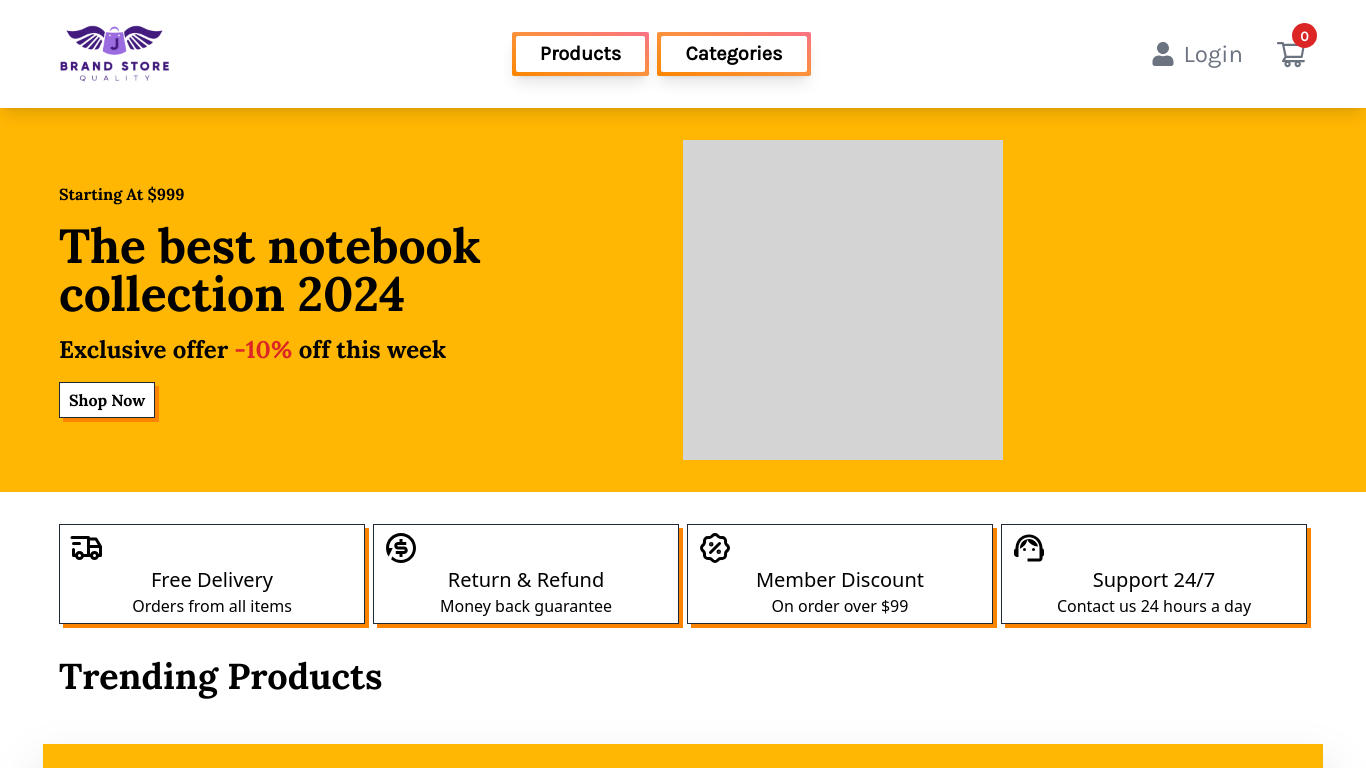
Test: testing navbar functions › login & logout works properly
The image size is (1366, 768).
Step 1. Click the text with test id "login-btn" → (1214,54), box [1184, 40, 1244, 68]
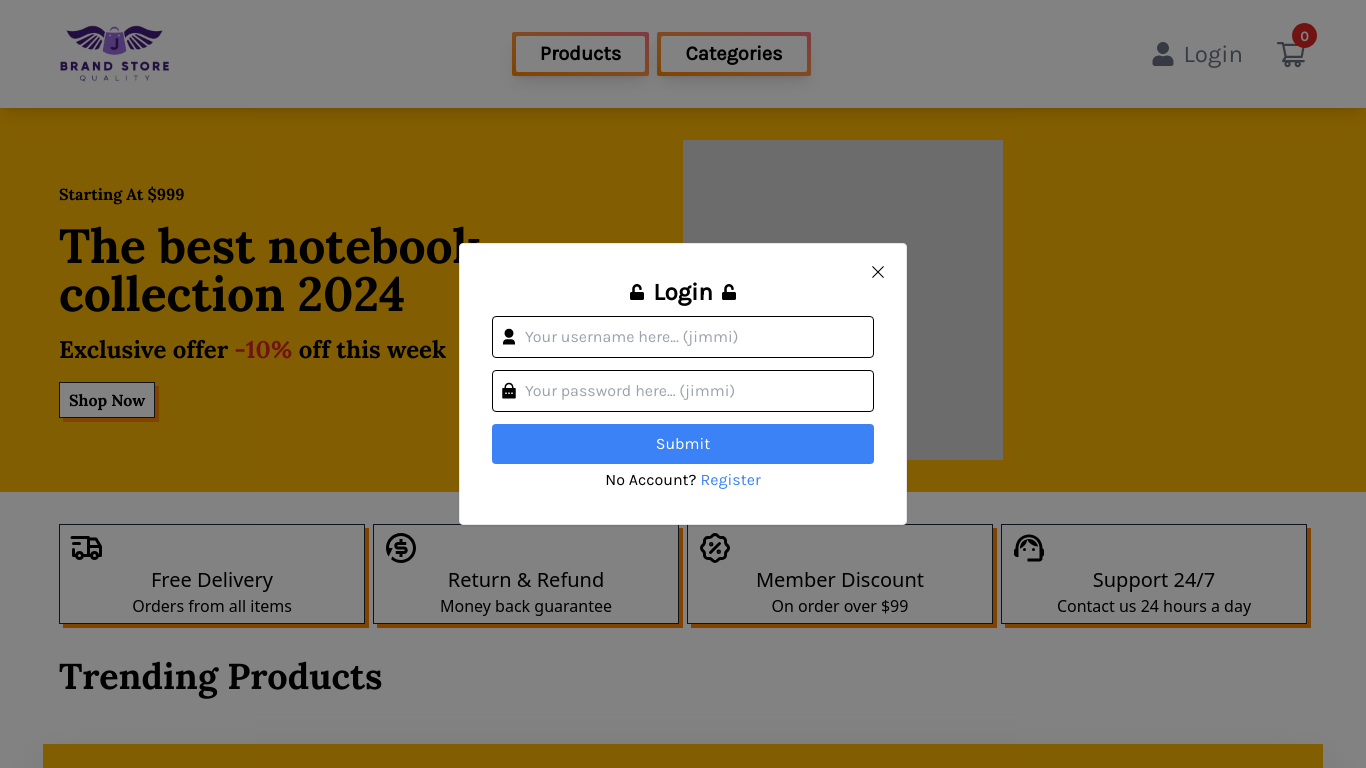
Step 2. Type "jimmi" into the field with test id "input-username" → (683,337), box [492, 316, 874, 358]
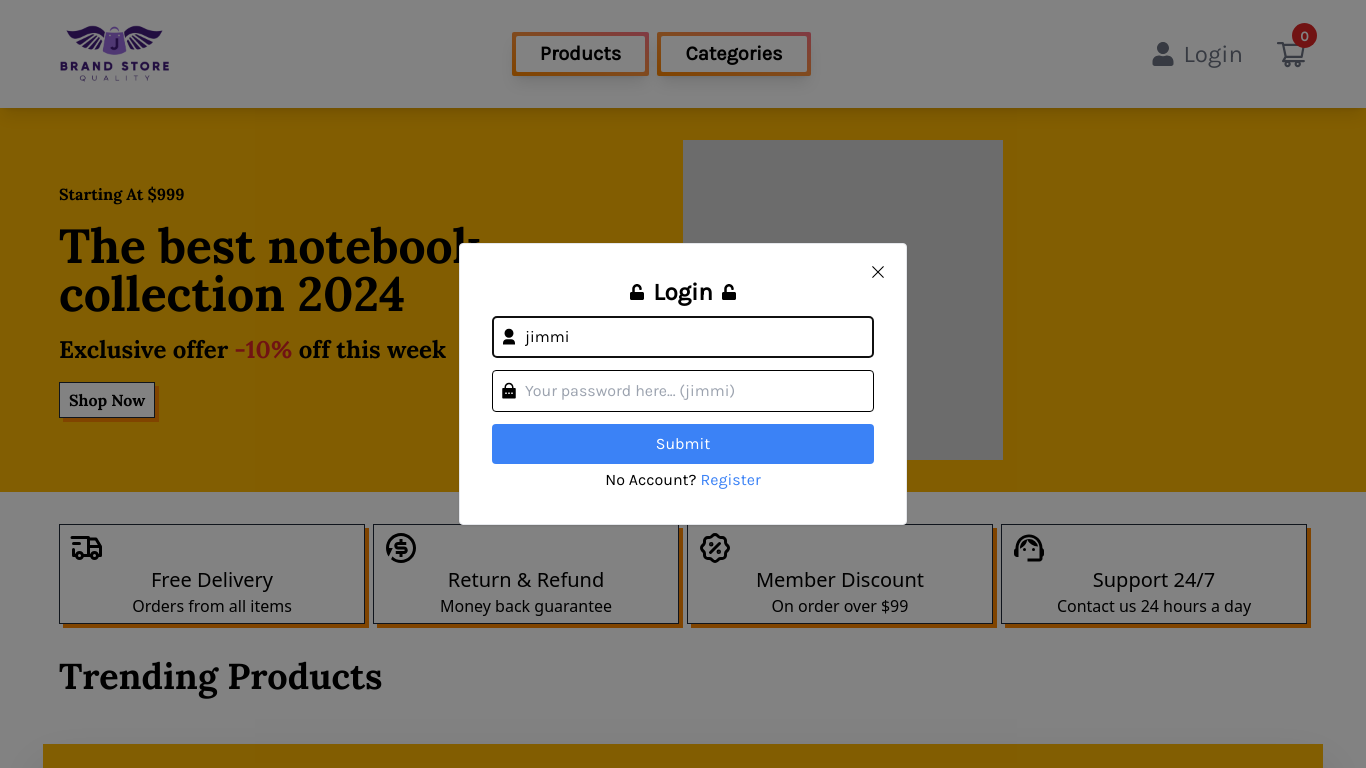
Step 3. Type "jimmi" into the password field with test id "input-password" → (683,391), box [492, 370, 874, 412]
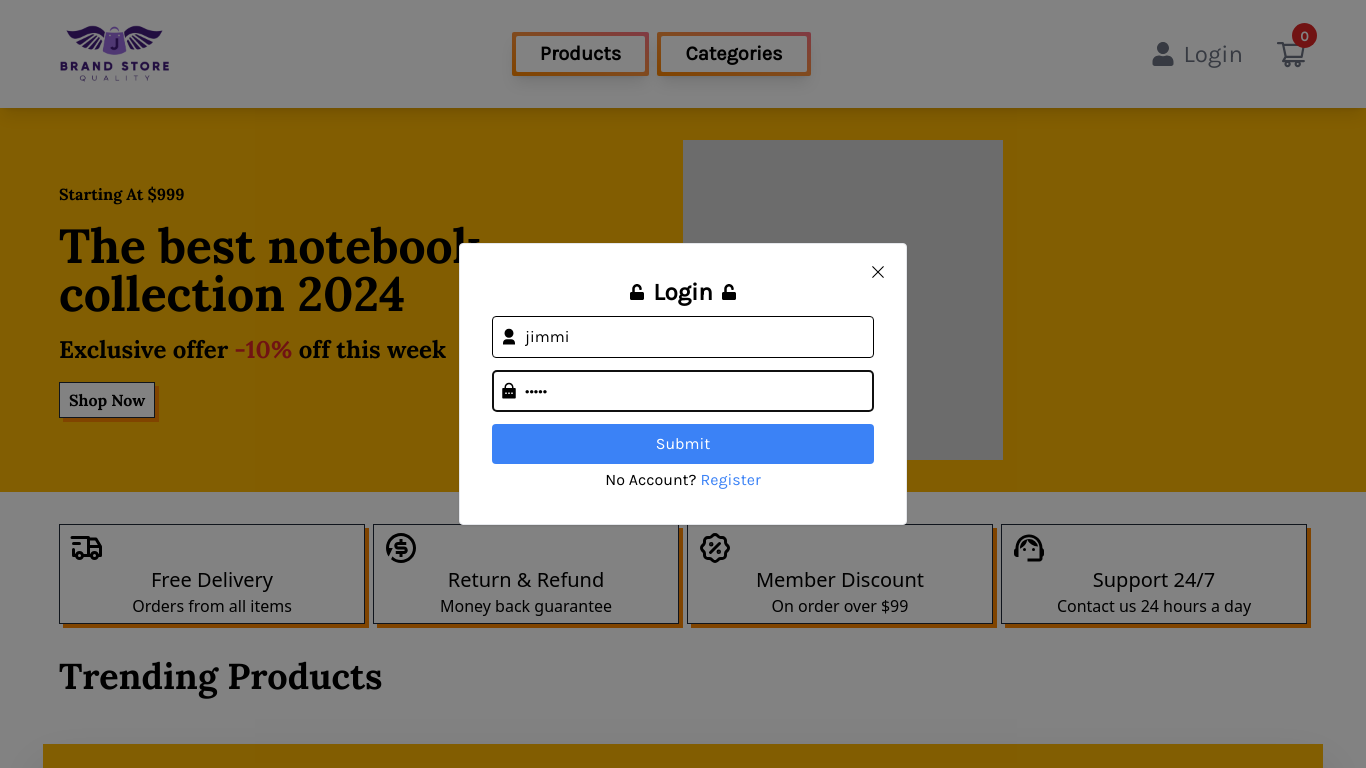
Step 4. Click the button with test id "input-submit" → (683,444), box [492, 424, 874, 464]
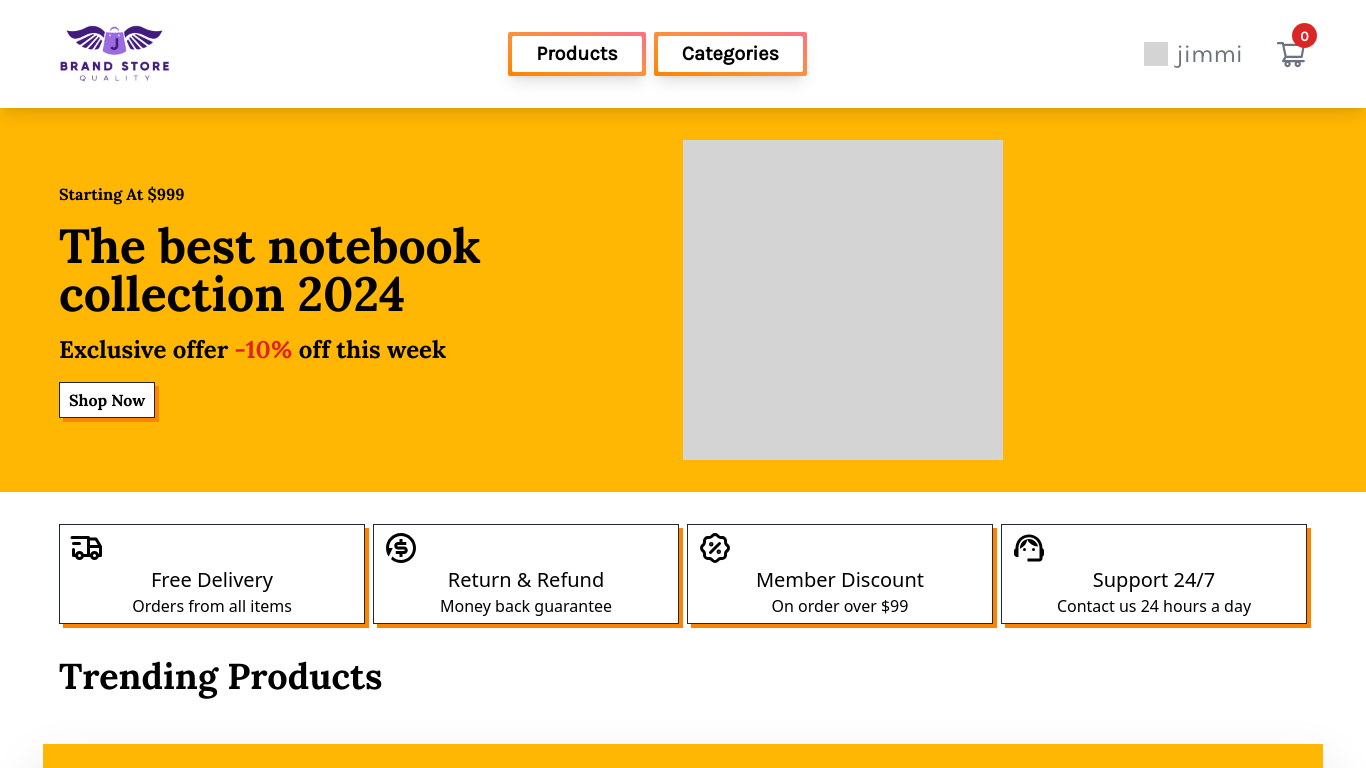
Step 5. Click the text with test id "username-popup" → (1210,54), box [1176, 38, 1243, 70]
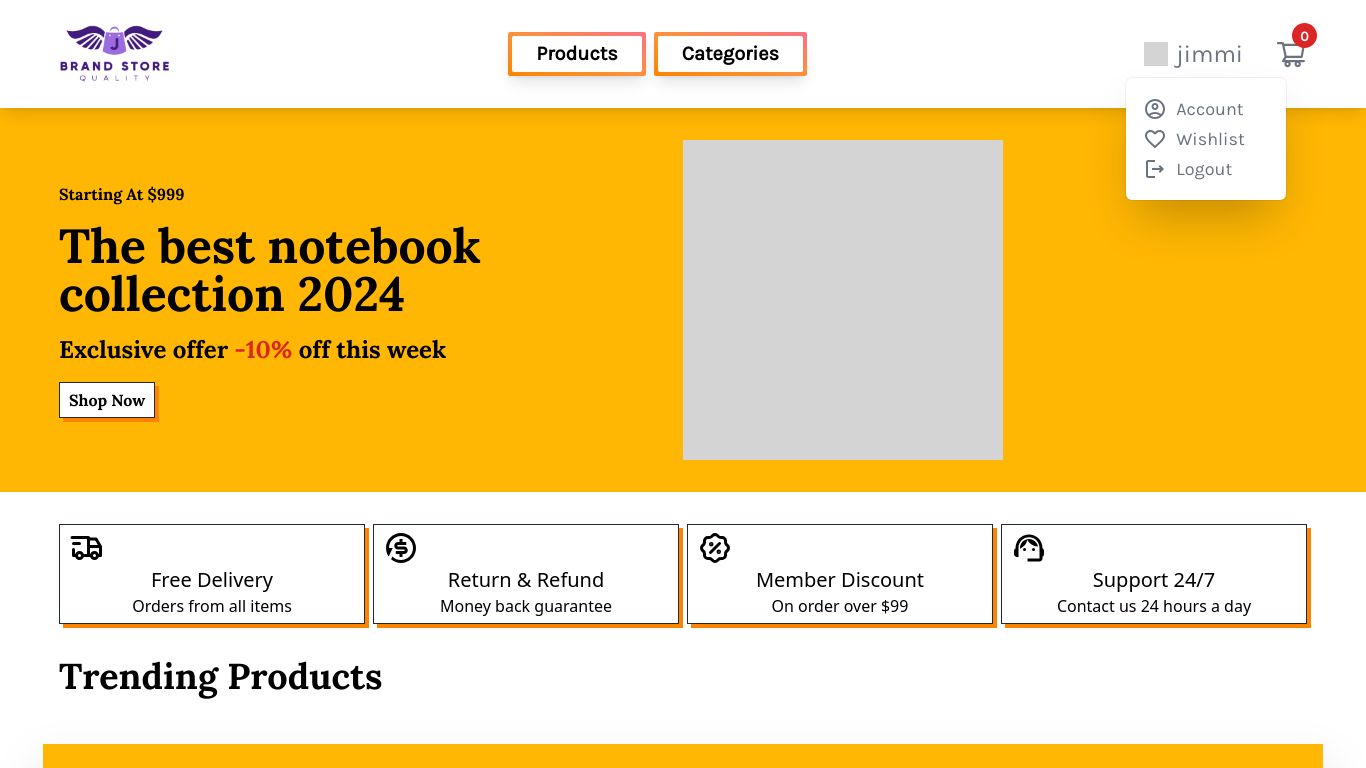
Result: the element with test id "popup-content-list" is shown at [1126, 78, 1286, 200]
Step 6. Click the cell with test id "logout-btn" → (1207,169), box [1168, 154, 1245, 184]
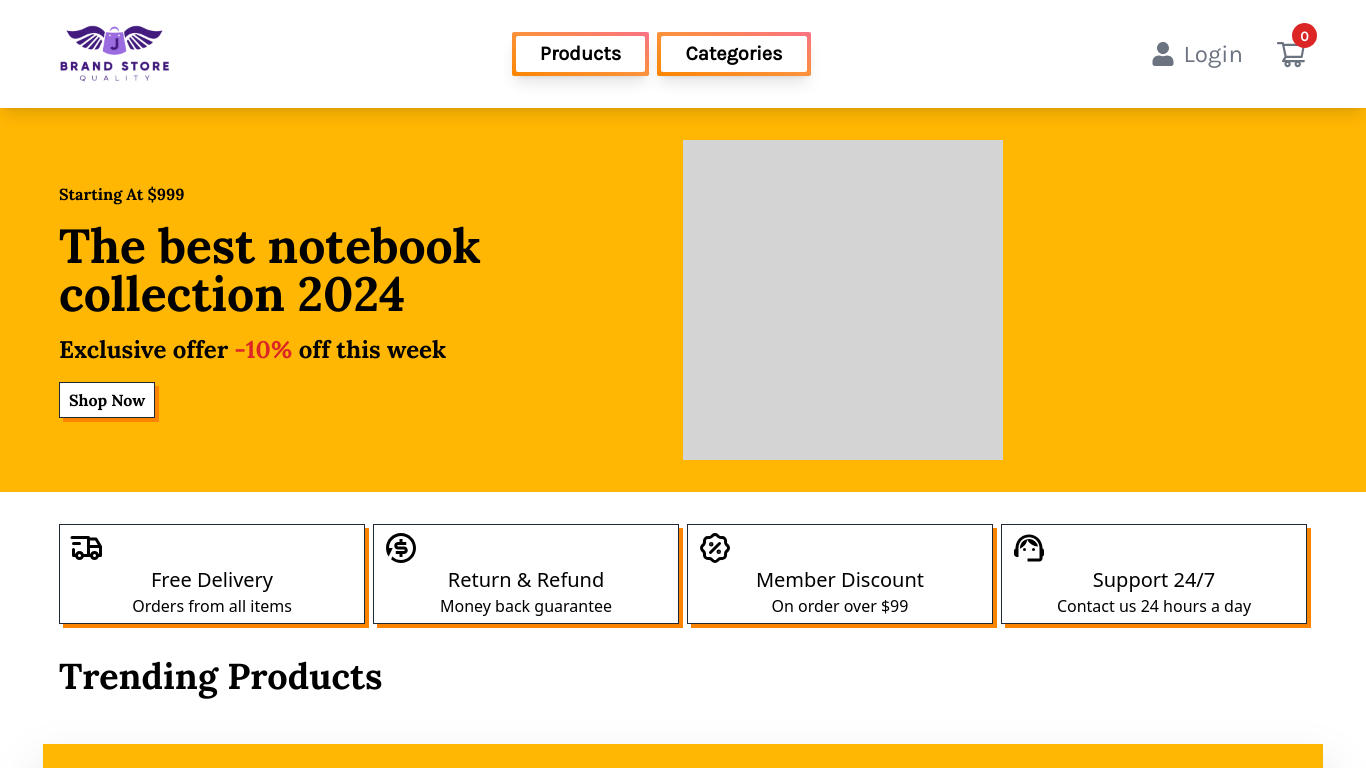
Result: the element with test id "popup-content-list" is gone
Result: the text "Login" is shown at [1184, 40, 1243, 68]
